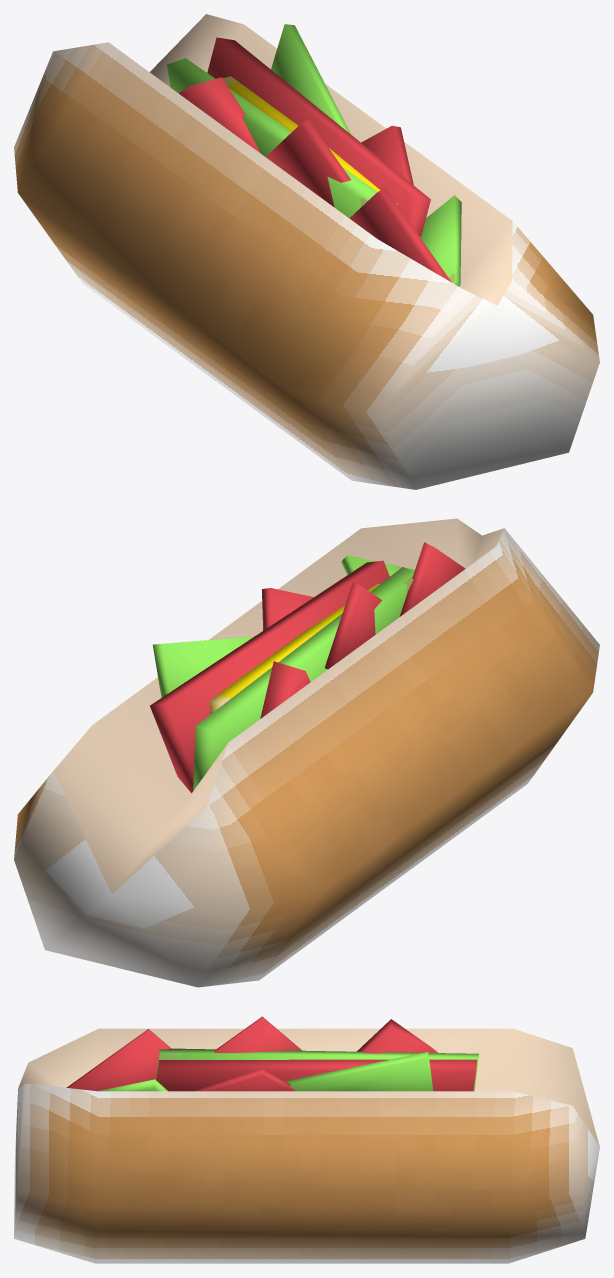
The model's file is HotdogEvolved.fbx.
3 views of the same model, one above another, from view 1: azimuth 30°, elevation 25°; view 2: azimuth 150°, elevation 25°; view 3: azimuth 270°, elevation 25° (orthographic). The views are drawn at different scales.
Visible parts, largest first — view 1: HotDogEvolved; view 2: HotDogEvolved; view 3: HotDogEvolved.
Part boxes in pixels (left/top/right/bottom): HotDogEvolved: left=14, top=14, right=599, bottom=489; HotDogEvolved: left=14, top=518, right=599, bottom=987; HotDogEvolved: left=14, top=1016, right=599, bottom=1263.
Bounding box in the file's own units: 15.76 × 13.04 × 33.88.
